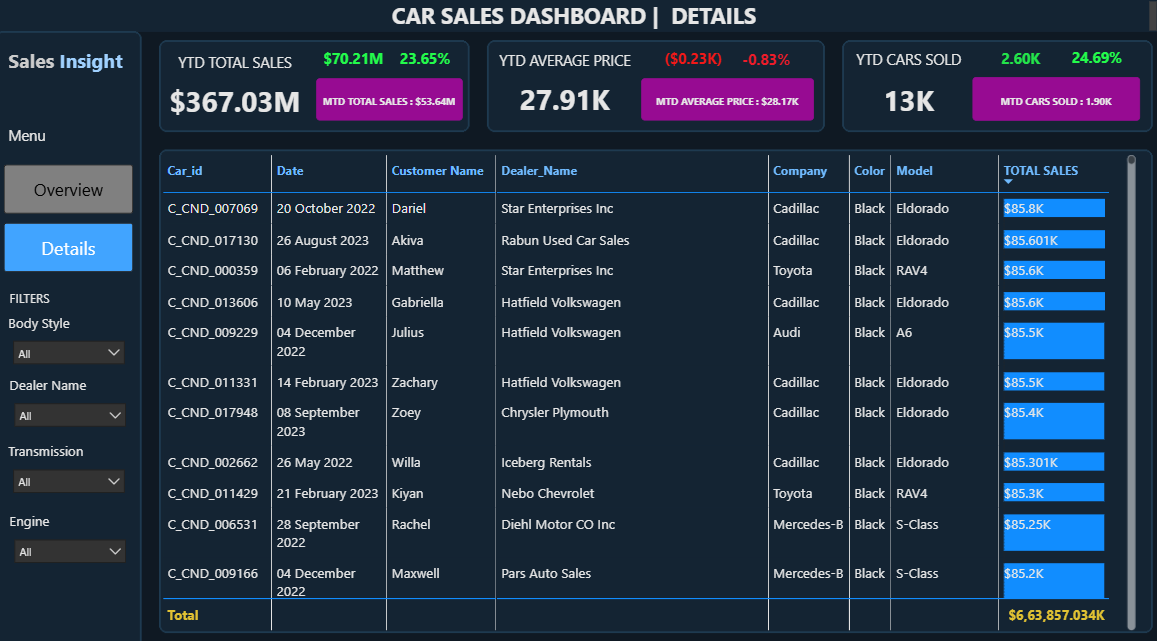

The dashboard page shown, as its layout file describes it:
{"tool":"powerbi","page":{"name":"Details","canvas":[1280,720],"ordinal":1},"visuals":[{"type":"card","title":"YTD TOTAL SALES","fields":{"Values":["Sales_Fact_Table.YTD TOTAL SALES"]},"box":[178.4,49.4,170.2,93.3],"z":0},{"type":"card","fields":{"Values":["Sales_Fact_Table.SALES DIFF"]},"box":[352.3,50,81.4,40.7],"z":1000},{"type":"card","fields":{"Values":["Sales_Fact_Table.YOY TOTAL SALES"]},"box":[422.6,49.4,98.8,39.8],"z":2000},{"type":"card","fields":{"Values":["Sales_Fact_Table.CONCAT"]},"box":[352.7,89.2,160.5,46.7],"z":3000},{"type":"card","title":"YTD AVERAGE PRICE","fields":{"Values":["Sales_Fact_Table.YTD AVERAGE PRICE"]},"box":[540,48.6,170,91.4],"z":4000},{"type":"card","fields":{"Values":["Sales_Fact_Table.CONCAT1"]},"box":[709.4,89.2,189.4,46.7],"z":5000},{"type":"card","fields":{"Values":["Sales_Fact_Table.AVERAGE PRICE DIFF"]},"box":[718.6,43,95.3,53.5],"z":6000},{"type":"card","fields":{"Values":["Sales_Fact_Table.YOY AVG PRICE GROWTH"]},"box":[804.1,48,85.1,46.7],"z":7000},{"type":"card","title":"YTD CARS SOLD","fields":{"Values":["Sales_Fact_Table.YTD CARS SOLD"]},"box":[923.3,46.5,159.3,96.5],"z":8000},{"type":"card","title":"MTD CAR SOLD","fields":{"Values":["Sales_Fact_Table.CONCAT CARS SOLD"]},"box":[1073.3,88.4,183.7,47.7],"z":9000},{"type":"card","fields":{"Values":["Sales_Fact_Table.CAR SOLD DIFF"]},"box":[1086.8,49.4,78.2,41.2],"z":10000},{"type":"card","fields":{"Values":["Sales_Fact_Table.YOY CARS SOLD"]},"box":[1162.3,42.5,94.7,52.1],"z":11000},{"type":"slicer","title":"Body Style","fields":{"Values":["Dim_BodyStyle.Body Style"]},"box":[9.6,343.1,142.7,68.6],"z":12000},{"type":"slicer","title":"Dealer Name","fields":{"Values":["Dim_Dealer.Dealer_Name"]},"box":[11,411.7,142.7,72.7],"z":13000},{"type":"slicer","title":"Transmission","fields":{"Values":["Dim_Engine.Transmission"]},"box":[9.6,484.4,142.7,76.8],"z":14000},{"type":"slicer","title":"Engine","fields":{"Values":["Dim_Engine.Engine"]},"box":[11,561.2,142.7,74.1],"z":15000},{"type":"textbox","box":[0,0,1280,50],"z":16000},{"type":"textbox","box":[11,317,72.7,42.5],"z":17000},{"type":"tableEx","fields":{"Values":["Sales_Fact_Table.Car_id","Sales_Fact_Table.Date","Dim_Customer.Customer Name","Dim_Dealer.Dealer_Name","Dim_Car.Company","Dim_CarColour.Color","Dim_Car.Model","Sales_Fact_Table.TOTAL SALES"]},"box":[178.4,168.8,1078.6,531],"z":18000},{"type":"textbox","box":[9.6,49.4,142.7,46.7],"z":19000},{"type":"textbox","box":[9.6,135.8,86.4,32.9],"z":20000},{"type":"pageNavigator","box":[9.6,183.9,142.7,119.4],"z":21000}]}

Visuals, with their boxes in screenshot pixels (x1, y1, x2, y2), scaled from the page's 1280x720 canvas onto the 1157x641 screenshot:
"YTD TOTAL SALES" card: rect(161, 44, 315, 127)
card - Sales_Fact_Table.SALES DIFF: rect(318, 45, 392, 81)
card - Sales_Fact_Table.YOY TOTAL SALES: rect(382, 44, 471, 79)
card - Sales_Fact_Table.CONCAT: rect(319, 79, 464, 121)
"YTD AVERAGE PRICE" card: rect(488, 43, 642, 125)
card - Sales_Fact_Table.CONCAT1: rect(641, 79, 812, 121)
card - Sales_Fact_Table.AVERAGE PRICE DIFF: rect(650, 38, 736, 86)
card - Sales_Fact_Table.YOY AVG PRICE GROWTH: rect(727, 43, 804, 84)
"YTD CARS SOLD" card: rect(835, 41, 979, 127)
"MTD CAR SOLD" card: rect(970, 79, 1136, 121)
card - Sales_Fact_Table.CAR SOLD DIFF: rect(982, 44, 1053, 81)
card - Sales_Fact_Table.YOY CARS SOLD: rect(1051, 38, 1136, 84)
"Body Style" slicer: rect(9, 305, 138, 367)
"Dealer Name" slicer: rect(10, 367, 139, 431)
"Transmission" slicer: rect(9, 431, 138, 500)
"Engine" slicer: rect(10, 500, 139, 566)
textbox: rect(0, 0, 1156, 45)
textbox: rect(10, 282, 76, 320)
tableEx - Sales_Fact_Table.Car_id x Sales_Fact_Table.Date: rect(161, 150, 1136, 623)
textbox: rect(9, 44, 138, 86)
textbox: rect(9, 121, 87, 150)
pageNavigator: rect(9, 164, 138, 270)
